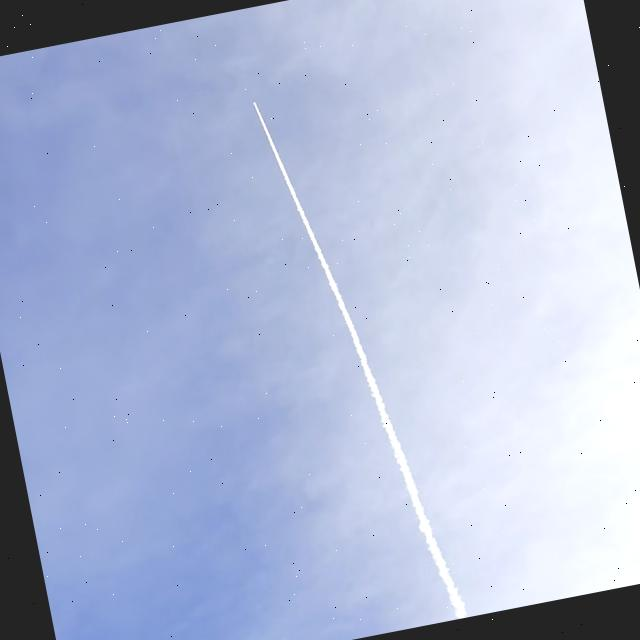smoke_trail_no_rocket: (255, 102, 468, 619)
